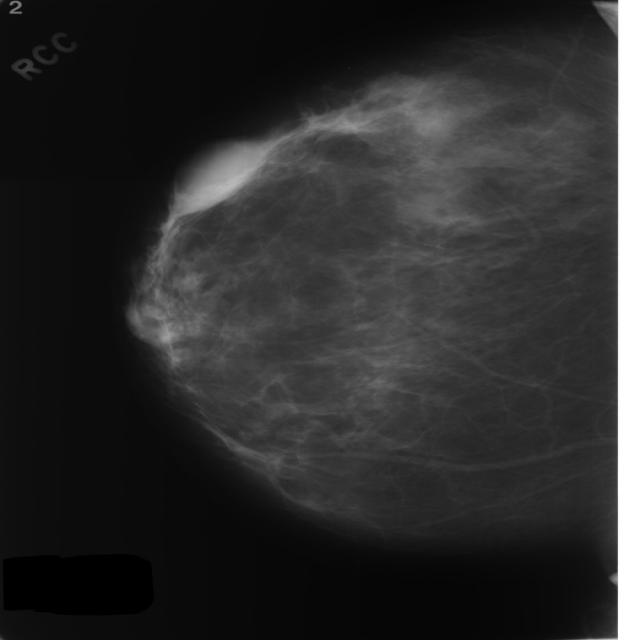tumour: (169, 136, 269, 213)
